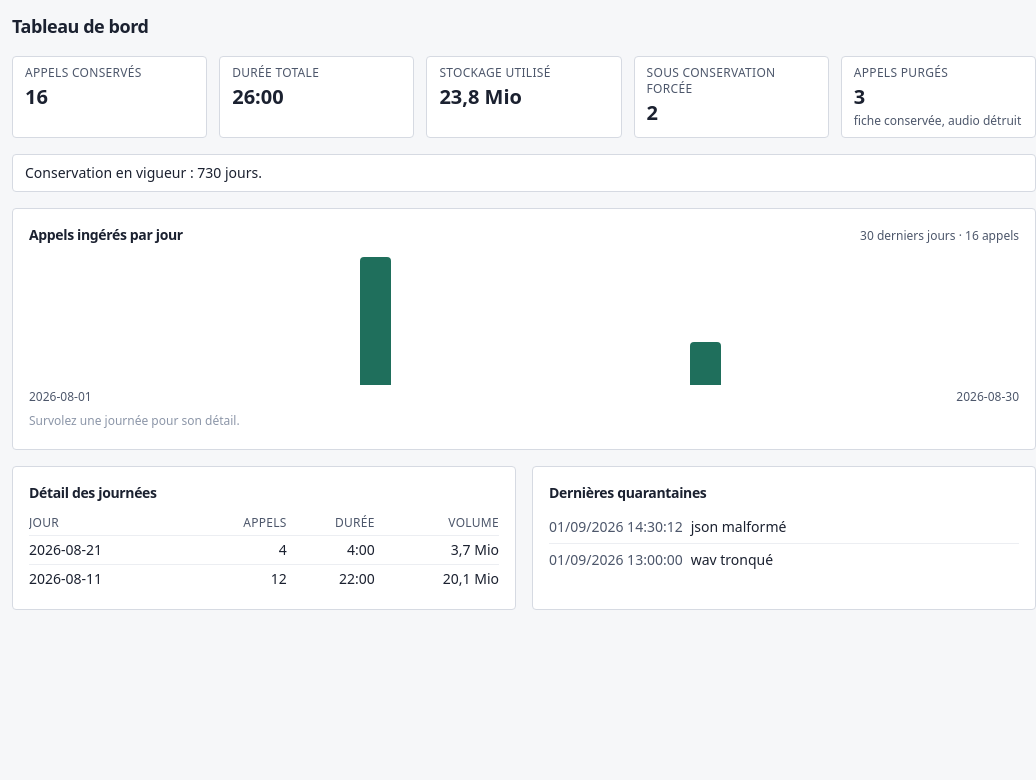
tableau de bord › détaille la journée survolée sans faire lire une barre à l’œil
The width and height of the screenshot is (1036, 780).
Hover over the button named "2026-08-11 : 12 appels": (375, 321) [360, 257, 391, 385]
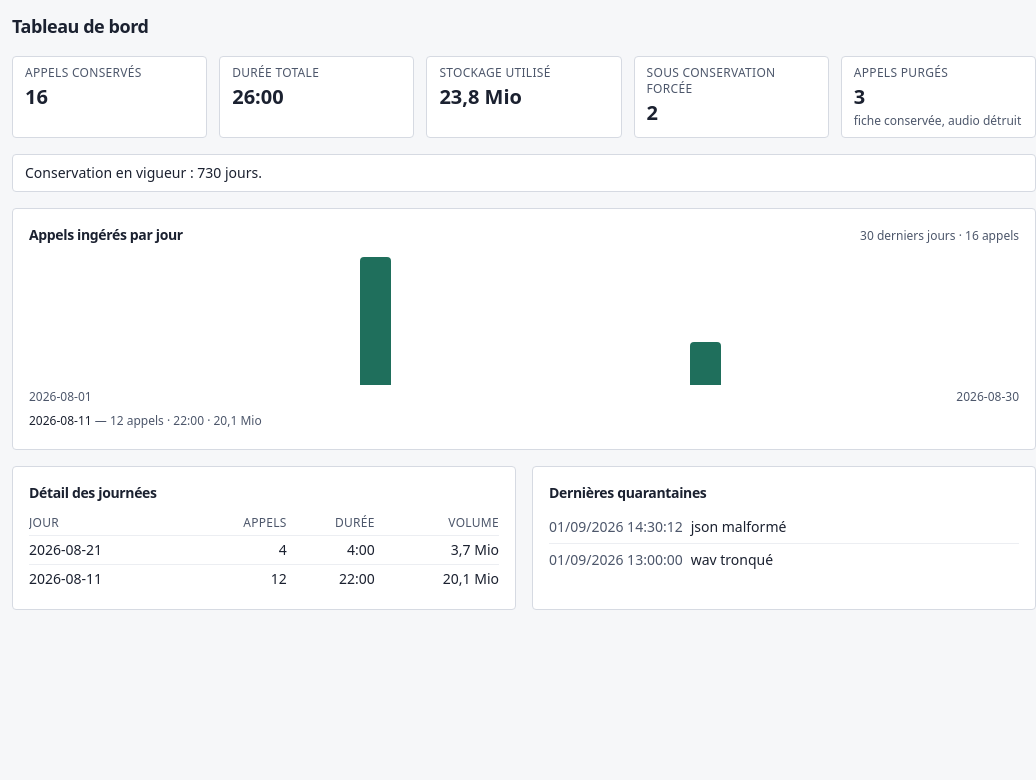
Expected: the message shows "2026-08-11", [29, 412, 92, 429]
Expected: the message shows "12 appels", [29, 412, 262, 429]
